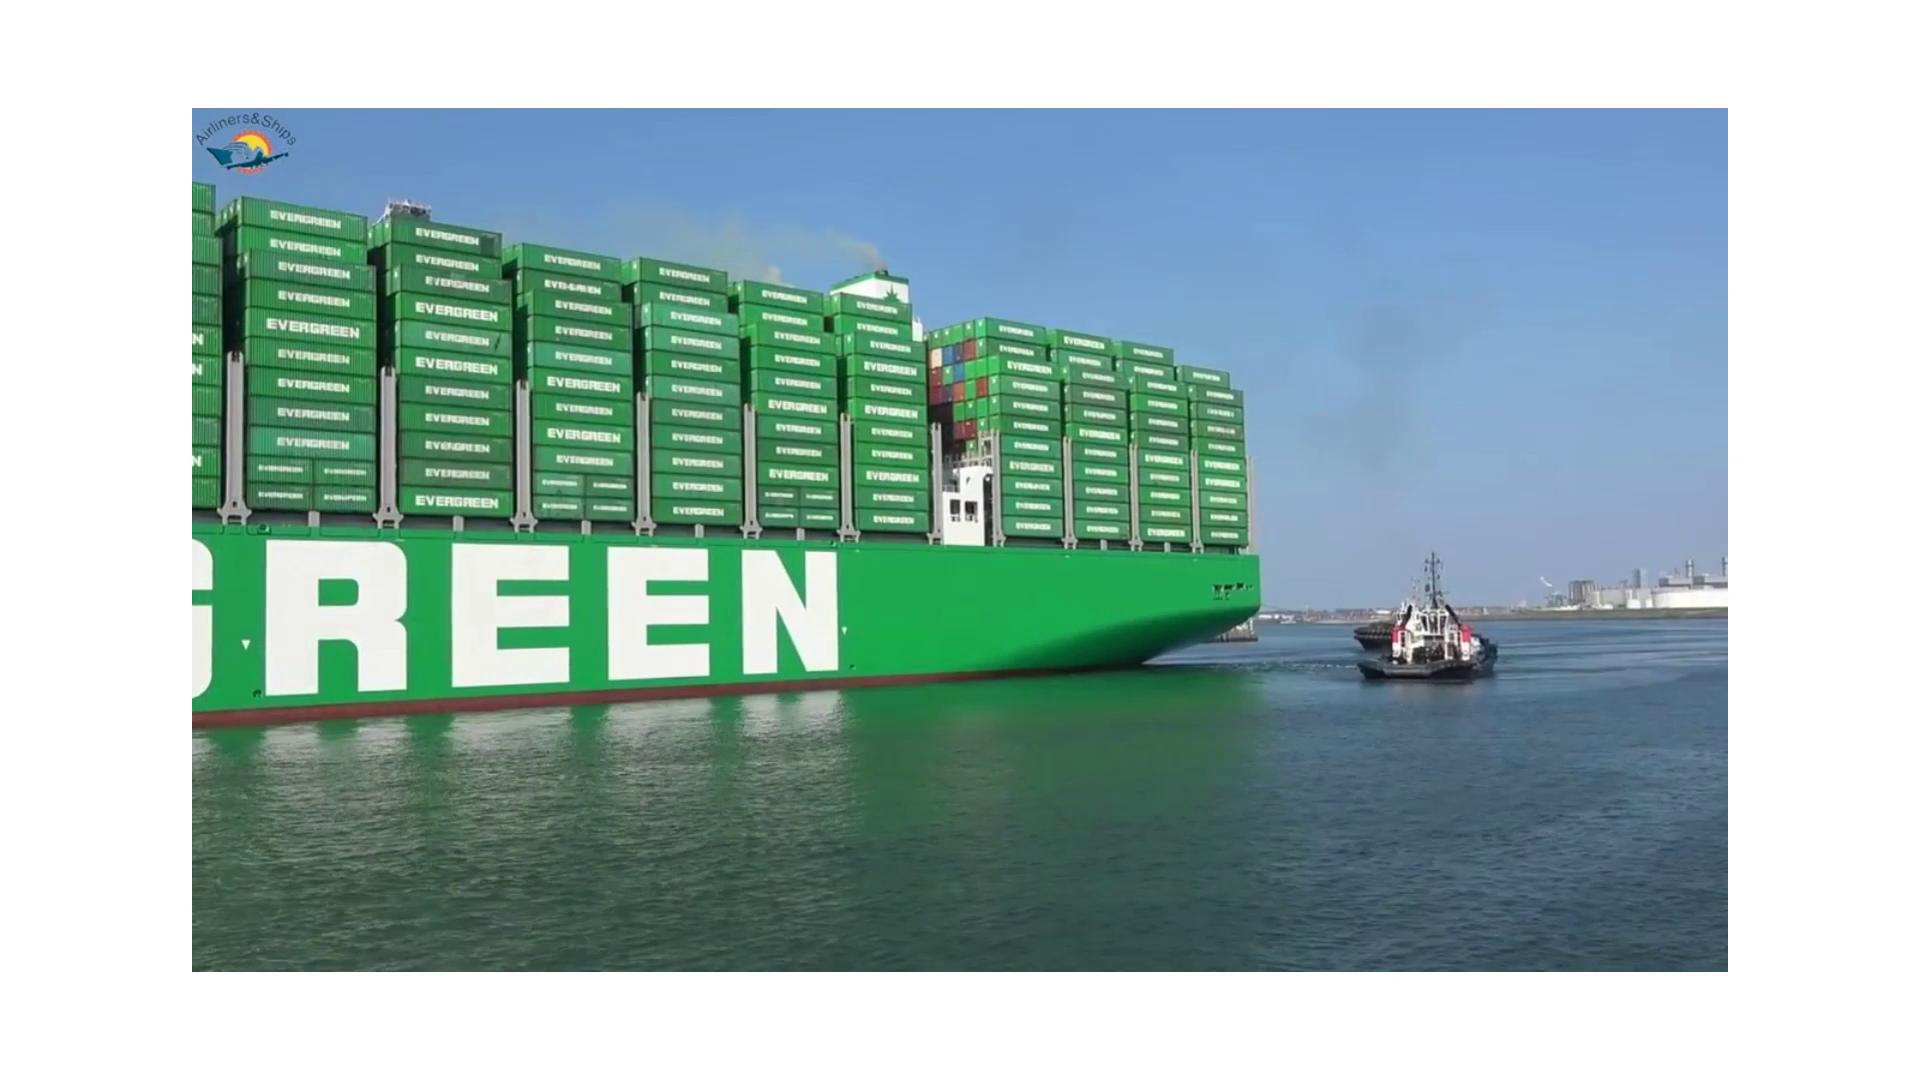OCR: (195, 509, 868, 708)
